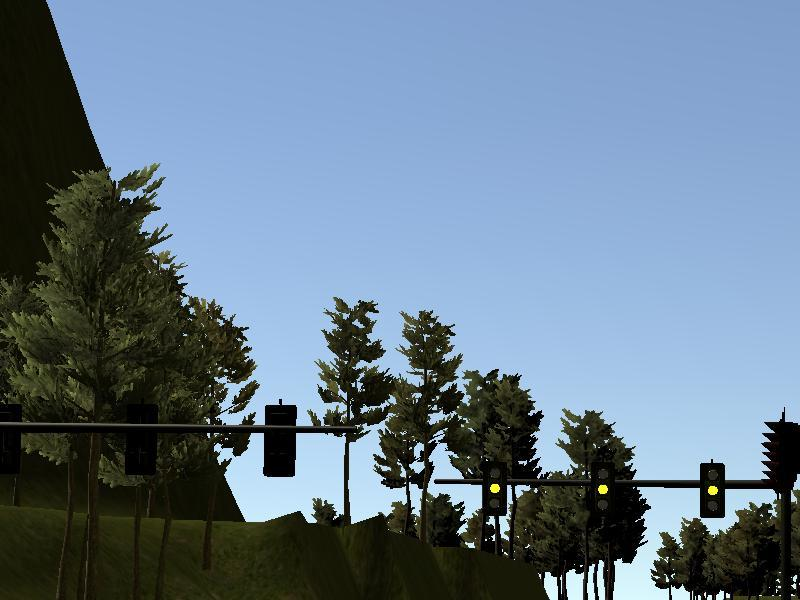Yellow: (481, 461, 507, 516), (701, 464, 725, 517), (591, 466, 614, 512)
